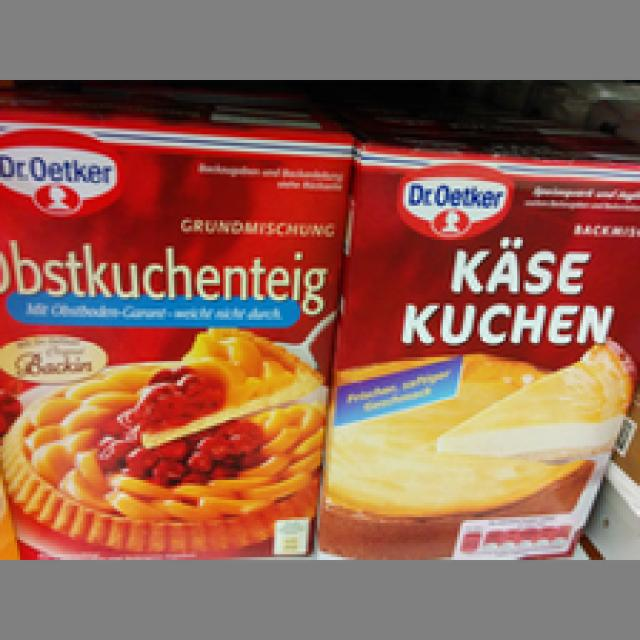groceries: (0, 105, 351, 560), (314, 117, 634, 563)
